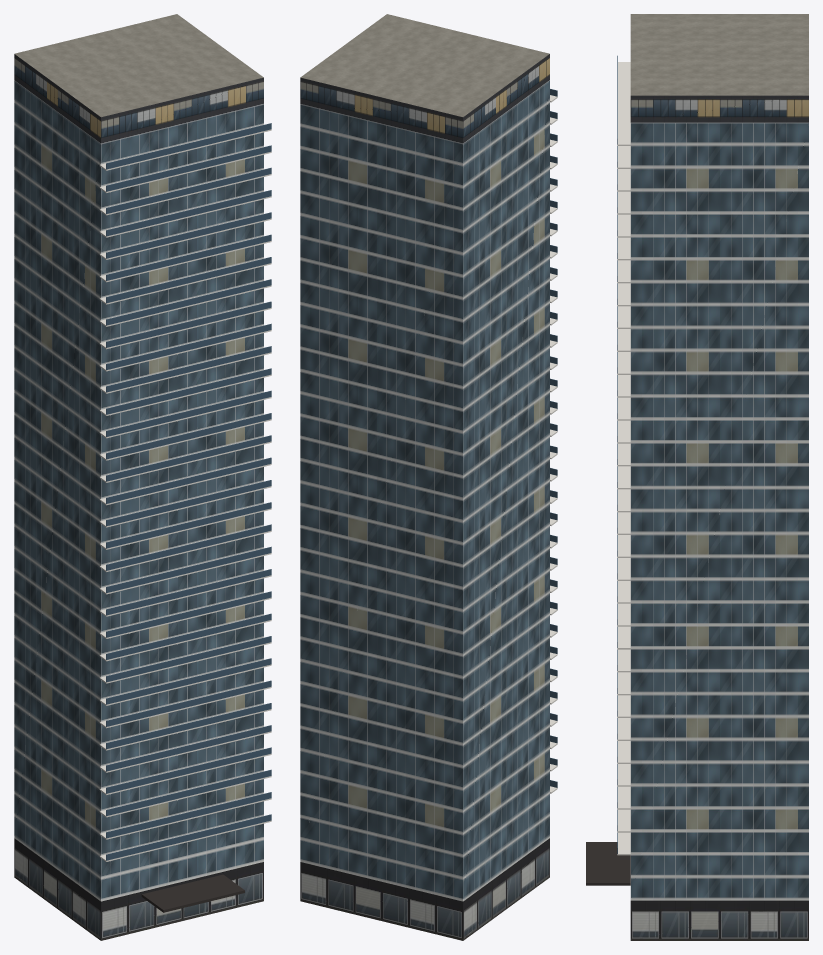
File: 025_glass_condo.glb
3 renders of one model, left to right at view 1: azimuth 30°, elevation 25°; view 2: azimuth 150°, elevation 25°; view 3: azimuth 270°, elevation 25°, orthographic. The views are drawn at different scales.
Visible parts, largest first — view 1: 025_glass_condo; view 2: 025_glass_condo; view 3: 025_glass_condo.
Boxes of the visible parts, left/top/right/bottom form: 025_glass_condo: left=14, top=14, right=271, bottom=940; 025_glass_condo: left=300, top=14, right=557, bottom=940; 025_glass_condo: left=586, top=14, right=808, bottom=940.
Bounding box in the file's own units: 26.4 × 126 × 30.
Materials: 8 (5 with a texture image).
